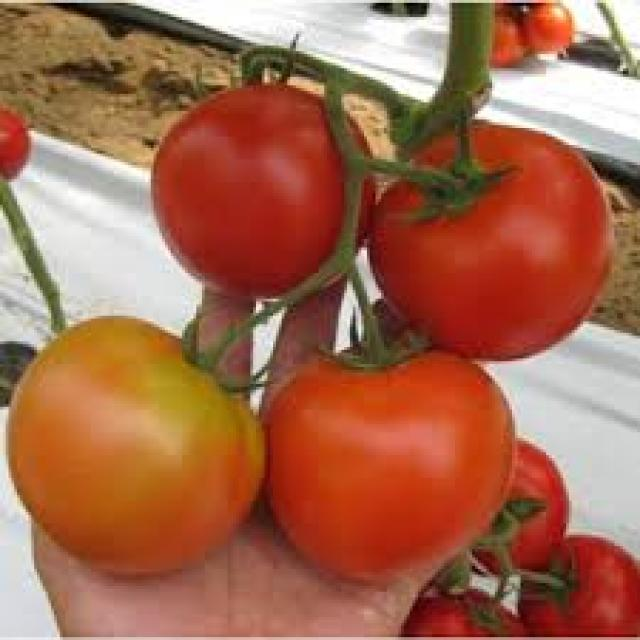organic waste: (8, 318, 262, 578), (262, 333, 515, 577), (367, 120, 620, 362), (151, 74, 367, 290), (469, 432, 569, 583), (518, 529, 637, 637), (404, 595, 520, 637), (526, 0, 569, 51), (0, 108, 31, 170), (489, 12, 524, 62), (495, 0, 523, 14)
